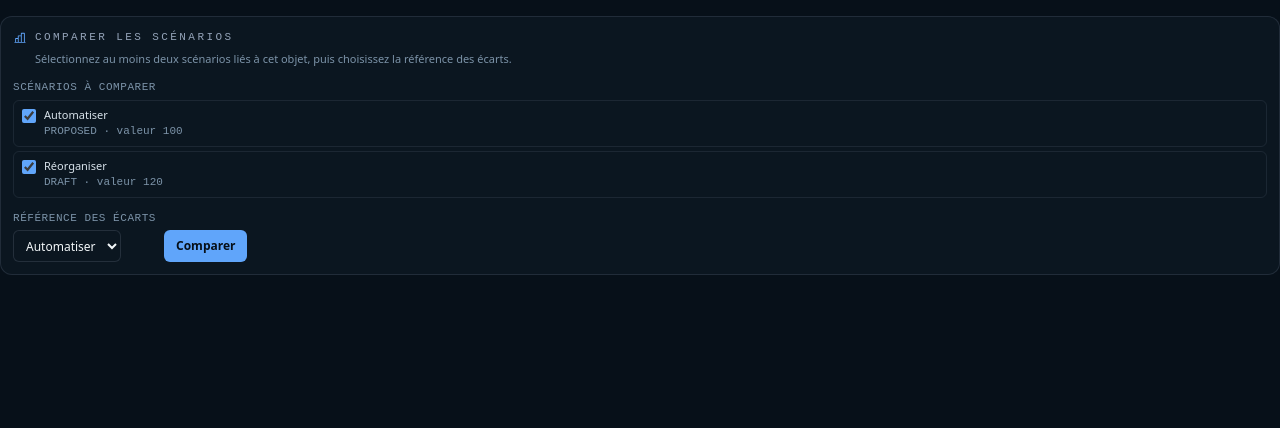
Test case: changer la référence efface l'ancienne comparaison et invalide une réponse en vol
Later steps or results of the test are not shown.
Step 1. Click the button with test id "boucle-comparaison-lancer" → point(206, 246), box [164, 230, 248, 262]
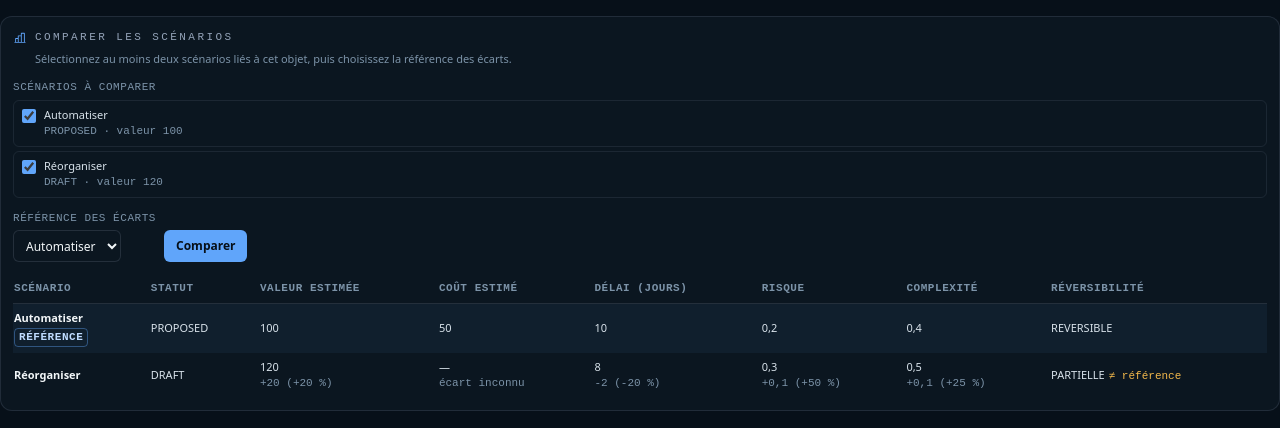
Check: the element with test id "boucle-comparaison-resultat" is shown, box [13, 274, 1267, 398]
Step 2. Select "Réorganiser" in the dropdown with test id "boucle-comparaison-reference" → point(67, 246), box [13, 230, 121, 262]
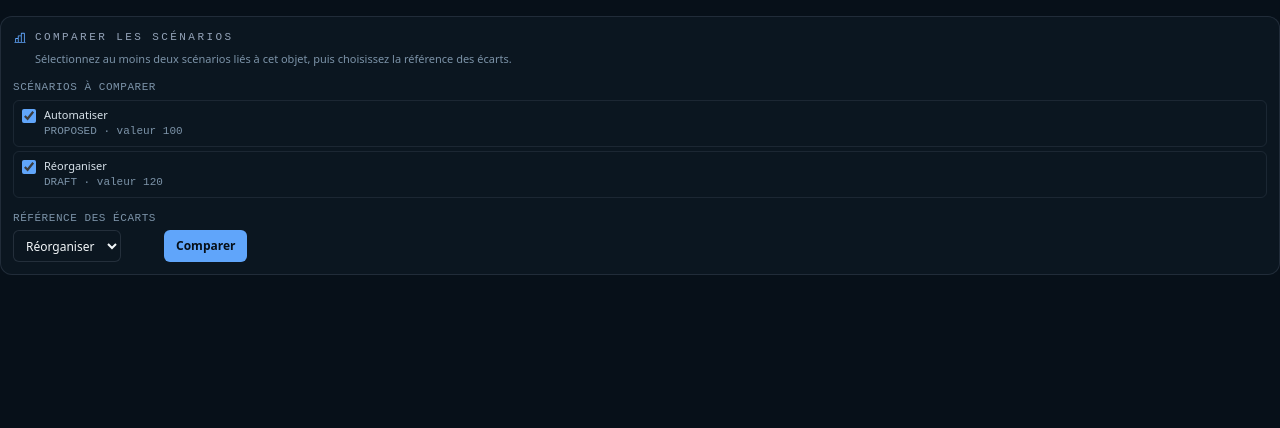
Check: the element with test id "boucle-comparaison-resultat" is gone
